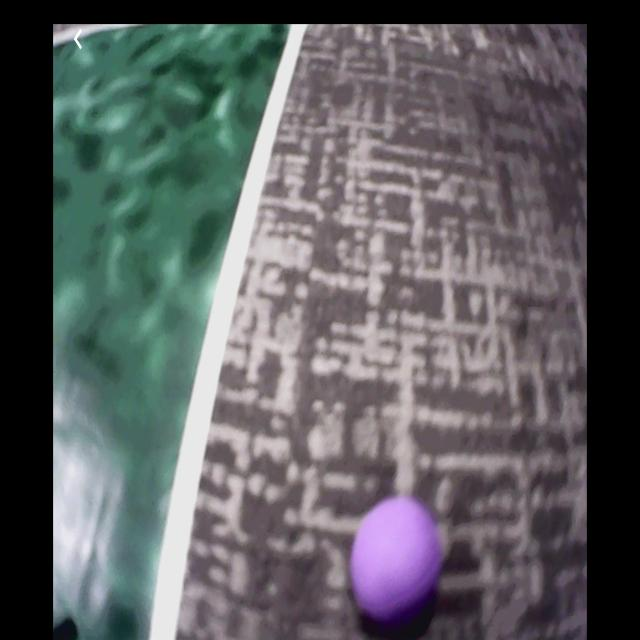ball: (353, 497, 443, 631)
